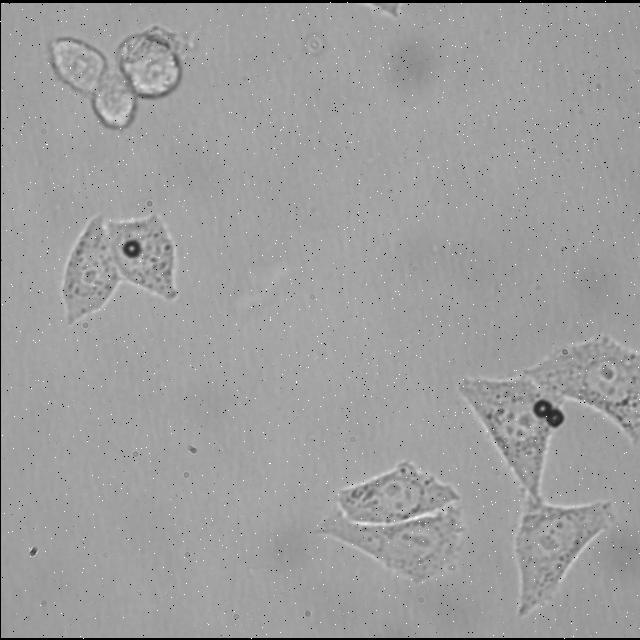microbeads: (544, 410, 566, 430), (120, 240, 142, 258), (532, 399, 550, 417)
